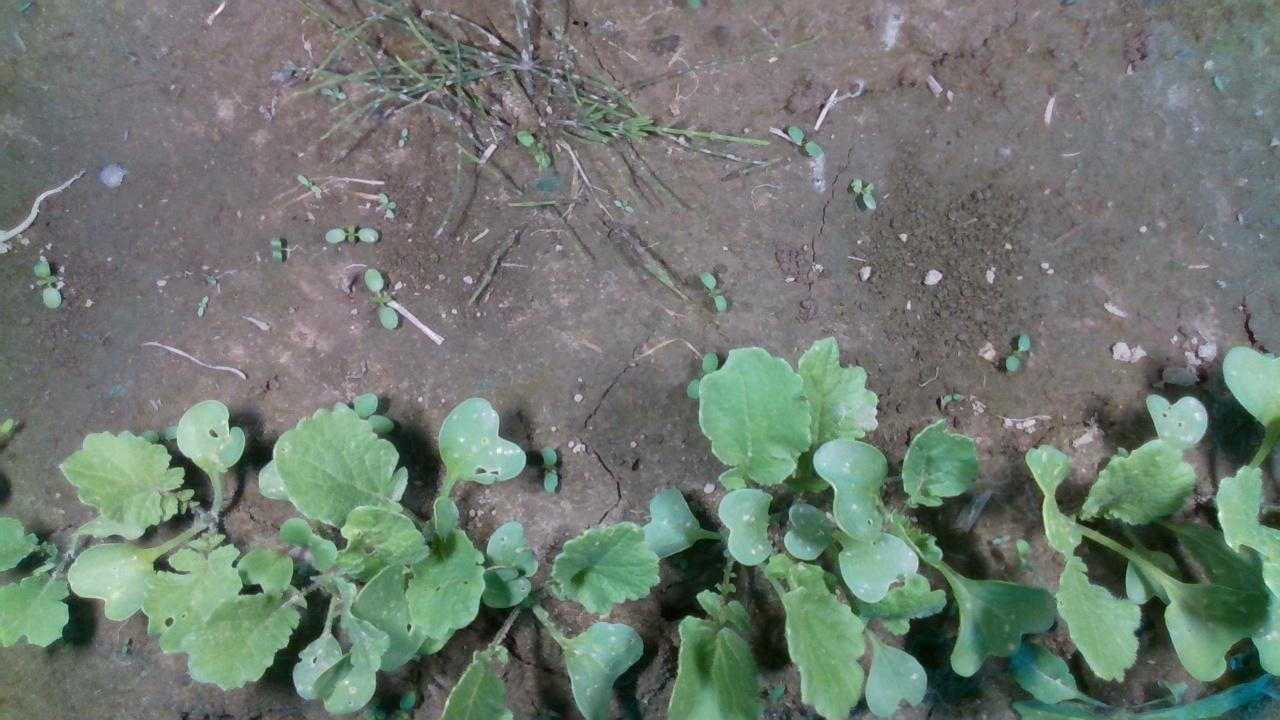weed: (363, 266, 399, 330), (696, 269, 728, 315), (33, 259, 61, 309), (785, 123, 822, 156), (322, 223, 378, 243), (1004, 332, 1030, 371), (540, 445, 559, 492), (375, 190, 397, 220), (295, 171, 321, 194), (267, 232, 284, 264), (195, 293, 209, 317)
